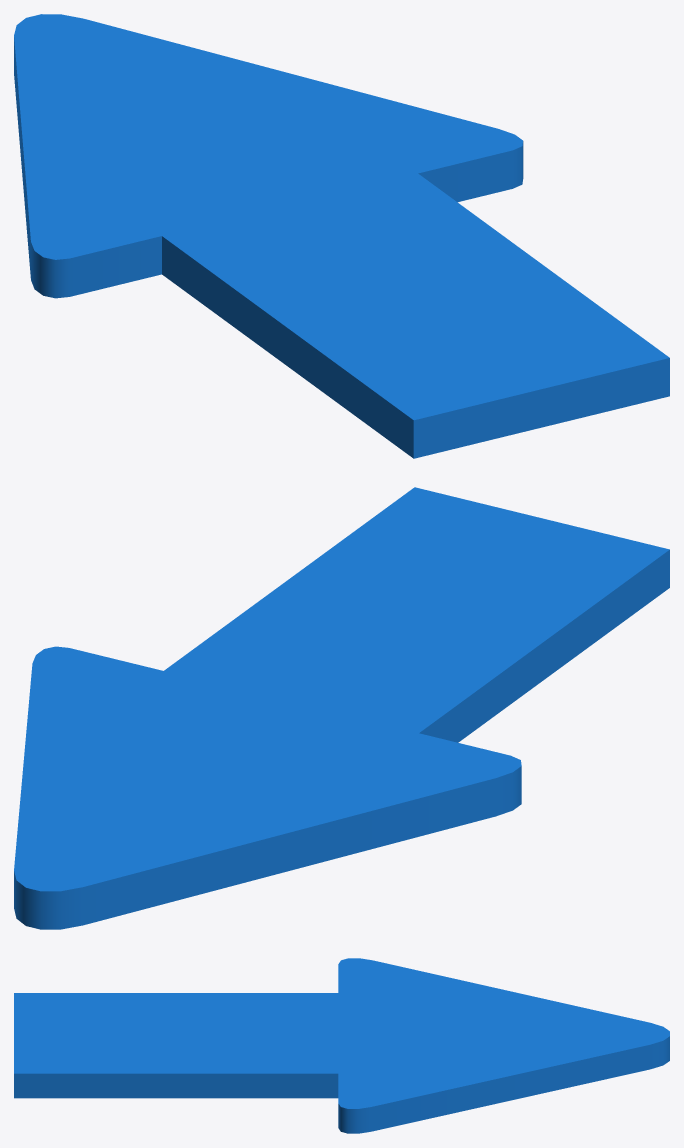
File: arrow.fbx
3 renders of one model, top to bottom at view 1: azimuth 30°, elevation 25°; view 2: azimuth 150°, elevation 25°; view 3: azimuth 270°, elevation 25°, orthographic. The views are drawn at different scales.
Visible parts, largest first — view 1: Arrow; view 2: Arrow; view 3: Arrow.
Boxes of the visible parts, x1=… form: Arrow: x1=14, y1=14, x2=669, y2=458; Arrow: x1=14, y1=487, x2=669, y2=929; Arrow: x1=14, y1=958, x2=669, y2=1133.
Bounding box in the file's own units: 148 × 11.38 × 273.
